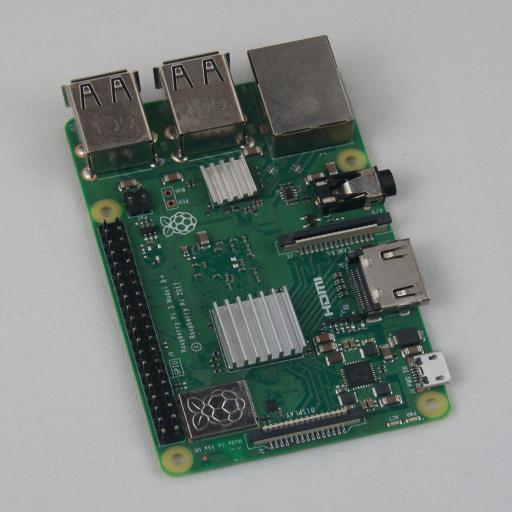Raspberry Pi 3 B-: (62, 35, 450, 475)
